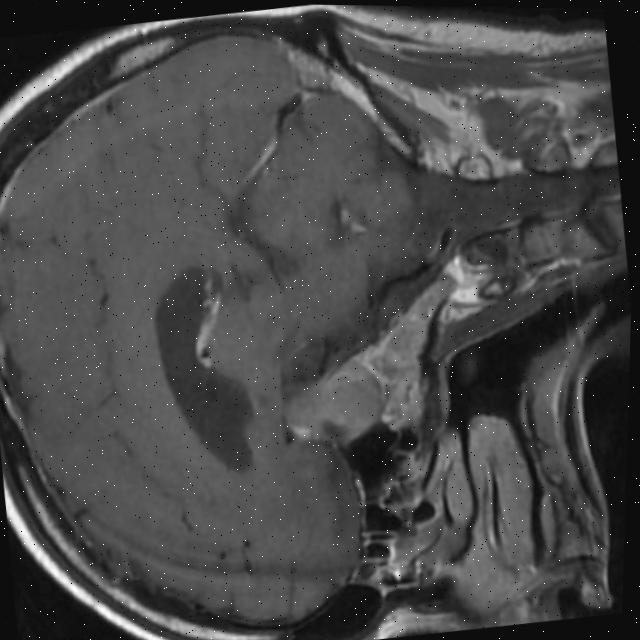Pituitary: (278, 354, 384, 453)
